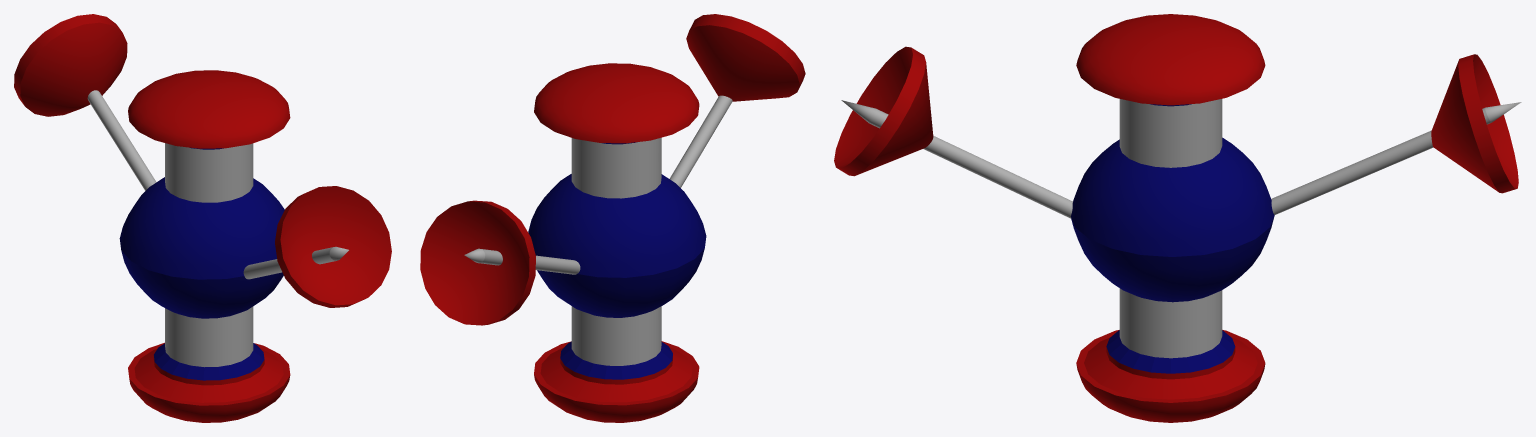
3 views of the same model, side by side, from view 1: azimuth 30°, elevation 25°; view 2: azimuth 150°, elevation 25°; view 3: azimuth 270°, elevation 25° (orthographic). The views are drawn at different scales.
Parts seen in each view (by area): view 1: pSphere7; view 2: pSphere7; view 3: pSphere7.
Boxes of the visible parts, x1=… form: pSphere7: x1=14, y1=14, x2=391, y2=422; pSphere7: x1=420, y1=14, x2=805, y2=422; pSphere7: x1=834, y1=14, x2=1521, y2=422.
Size of the model in its own units: 13.52 by 27.26 by 45.32.
